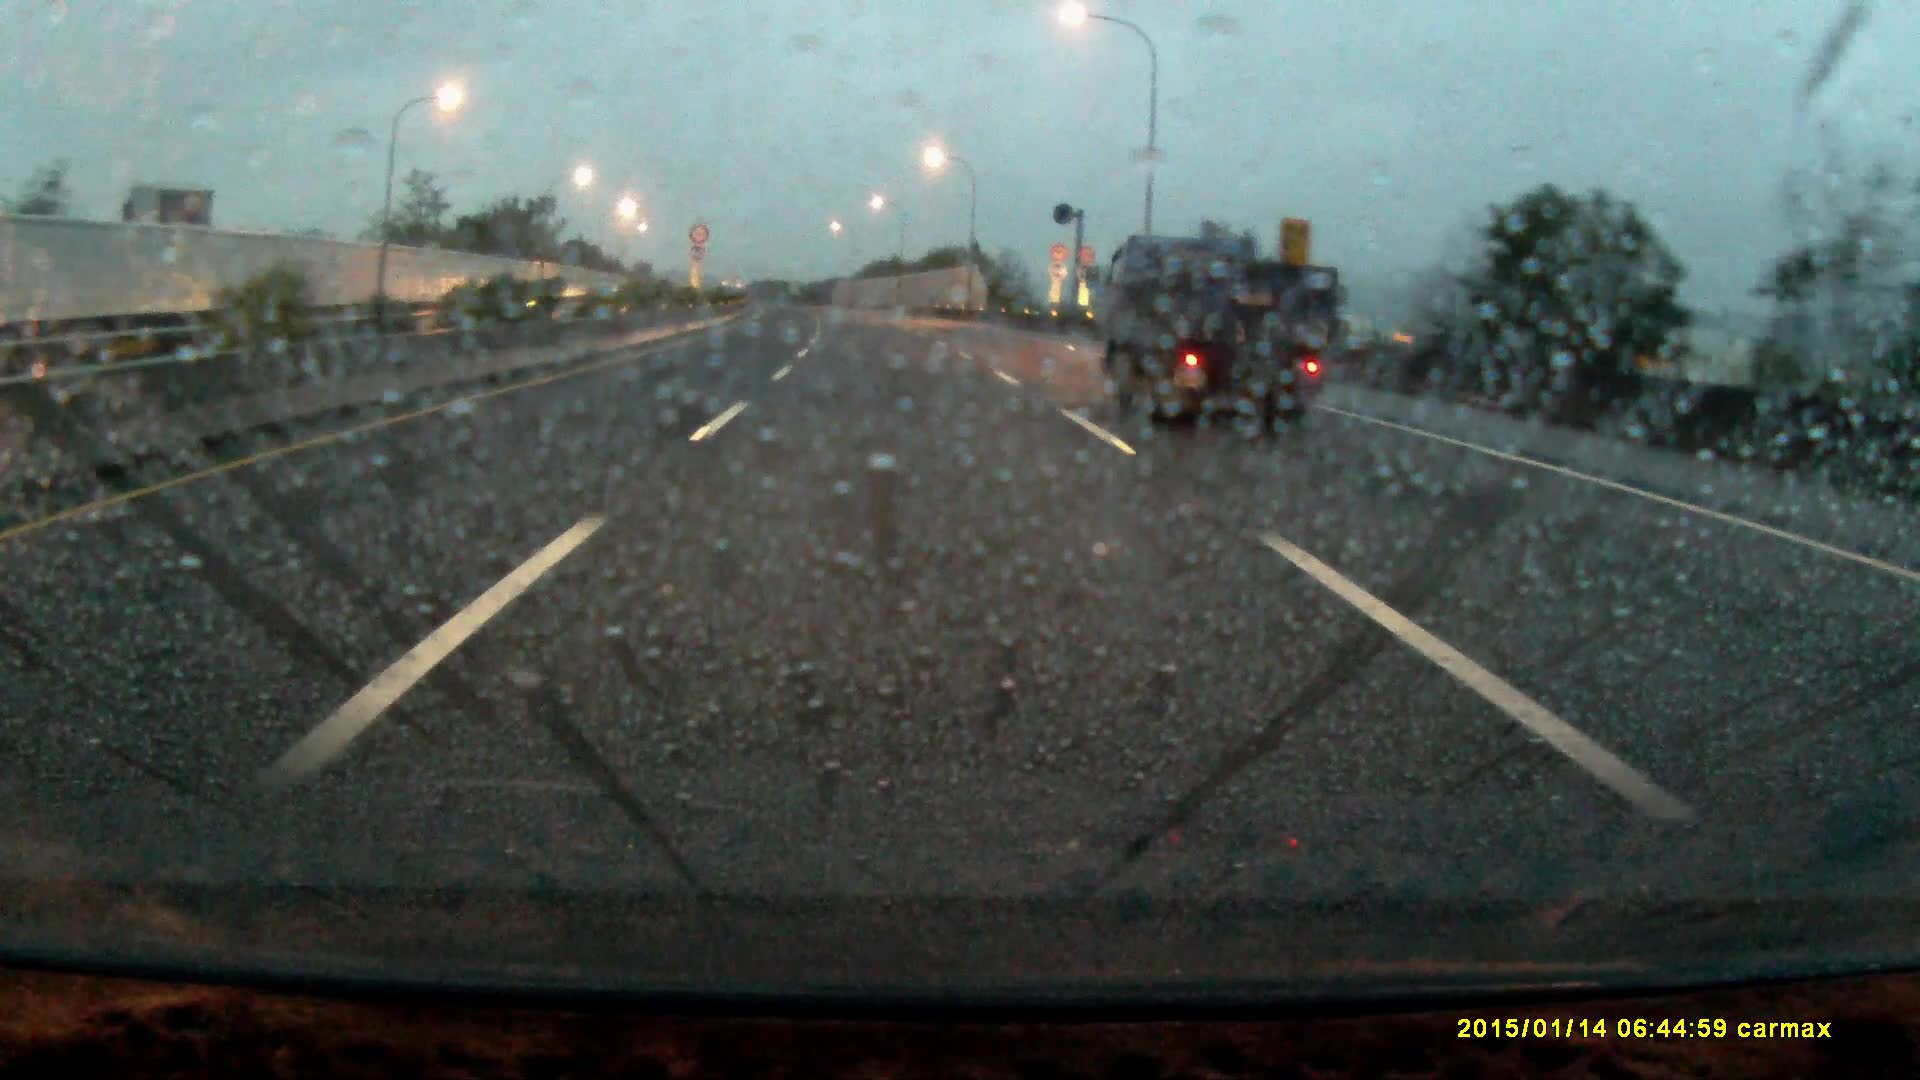vehicle: (1102, 237, 1338, 425)
